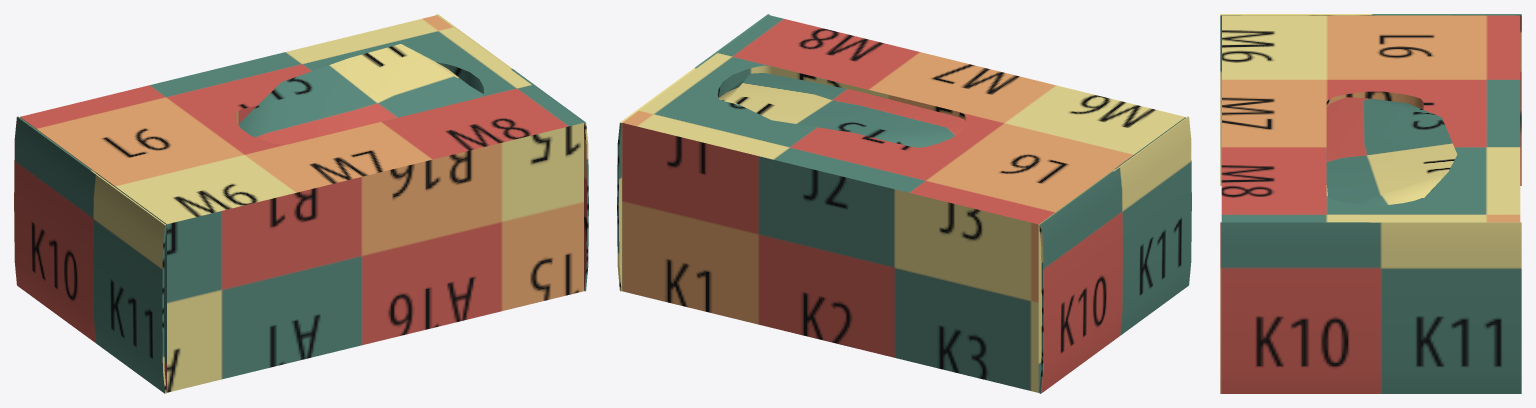
Rendered from SM_Glovebox_01a.fbx.
The picture shows the model from 3 angles, left to right: view 1: azimuth 30°, elevation 25°; view 2: azimuth 150°, elevation 25°; view 3: azimuth 270°, elevation 25°; orthographic projection.
Visible parts, largest first — view 1: SM_Glovebox_01a; view 2: SM_Glovebox_01a; view 3: SM_Glovebox_01a.
Boxes of the visible parts, x1,y1,x2,y2 form: SM_Glovebox_01a: (14,14,588,393); SM_Glovebox_01a: (617,14,1191,393); SM_Glovebox_01a: (1220,14,1521,393).
Bounding box in the file's own units: 14.77 × 6.06 × 8.88.
1 material, 1 textured.
